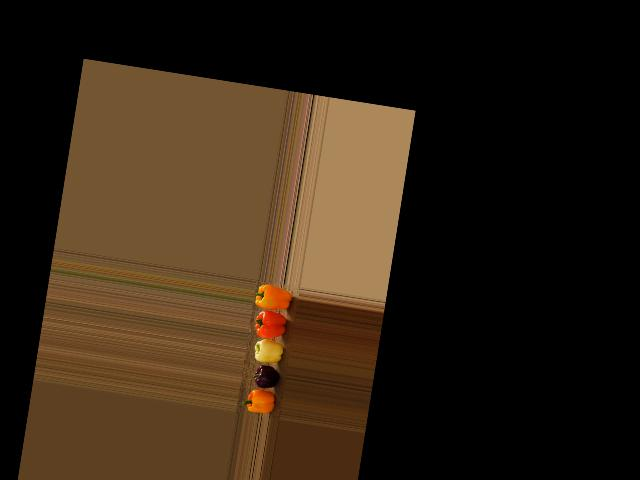bell_pepper: (239, 389, 281, 418)
